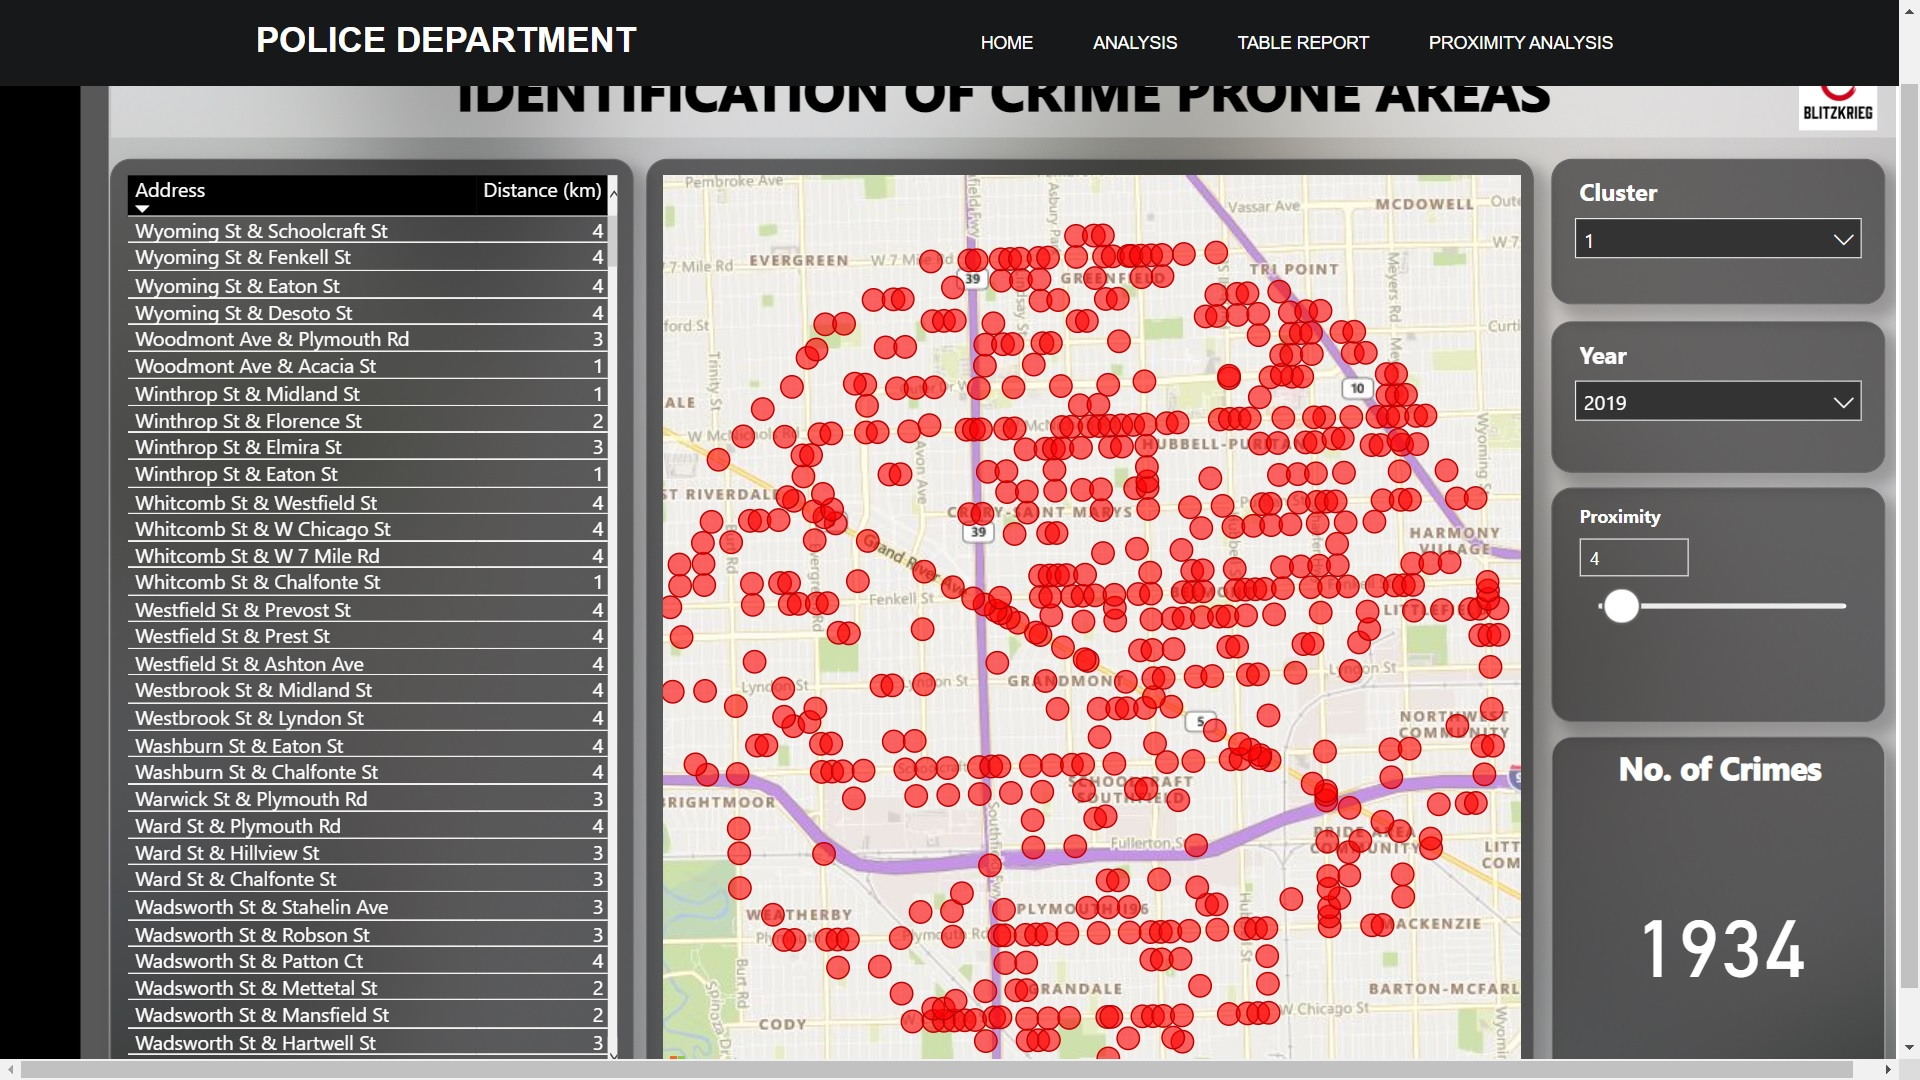

The page's visual inventory and layout, read from the dashboard file:
{"tool":"powerbi","page":{"name":"crime analysis","canvas":[1280,720],"ordinal":0},"visuals":[{"type":"textbox","title":"title","box":[74.8,0,1204.8,62.7],"z":0},{"type":"image","title":"blitzreg","box":[1202.4,0,77.2,62.7],"z":1000},{"type":"group","id":"g1","title":"analysis elements","box":[435.9,76.9,836.5,634.4],"z":2000},{"type":"slicer","fields":{"Values":["RMS_Crime_Incidents_2 (1).cluster_label"]},"box":[1047,77.2,226,98.2],"z":3000},{"type":"card","title":"No. of Crimes","fields":{"Values":["Count(RMS_Crime_Incidents_2 (1).oid)"]},"box":[1046.4,467.1,226,241.4],"z":3000,"group":"g1"},{"type":"slicer","fields":{"Values":["Maximum distance.Maximum distance"]},"box":[1047,298.9,226,158.6],"z":4000},{"type":"tableEx","fields":{"Values":["RMS_Crime_Incidents_2 (1).address","RMS_Crime_Incidents_2 (1).Distance (km)"]},"box":[74.4,77.2,353.7,637.2],"z":5000},{"type":"slicer","fields":{"Values":["RMS_Crime_Incidents_2 (1).year"]},"box":[1047,186.7,226,102.5],"z":5001},{"type":"map","fields":{"Y":["RMS_Crime_Incidents_2 (1).latitude"],"X":["RMS_Crime_Incidents_2 (1).longitude"],"Size":["RMS_Crime_Incidents_2 (1).Map Point Size"]},"box":[435.9,76.9,599.3,634.4],"z":9000,"group":"g1"}]}

Visuals, with their boxes in screenshot pixels (x1, y1, x2, y2), scaled from the page's 1280x720 canvas onto the 1920x1080 screenshot:
"title" textbox: [left=112, top=0, right=1919, bottom=94]
"blitzreg" image: [left=1804, top=0, right=1919, bottom=94]
"analysis elements" group: [left=654, top=115, right=1909, bottom=1067]
slicer - RMS_Crime_Incidents_2 (1).cluster_label: [left=1570, top=116, right=1910, bottom=263]
"No. of Crimes" card: [left=1570, top=701, right=1909, bottom=1063]
slicer - Maximum distance.Maximum distance: [left=1570, top=448, right=1910, bottom=686]
tableEx - RMS_Crime_Incidents_2 (1).address x RMS_Crime_Incidents_2 (1).Distance (km): [left=112, top=116, right=642, bottom=1072]
slicer - RMS_Crime_Incidents_2 (1).year: [left=1570, top=280, right=1910, bottom=434]
map - RMS_Crime_Incidents_2 (1).latitude x RMS_Crime_Incidents_2 (1).longitude: [left=654, top=115, right=1553, bottom=1067]
